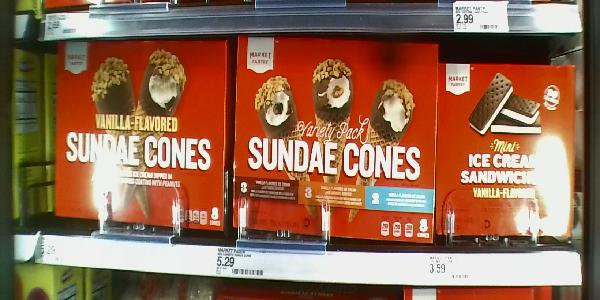icecream: (234, 28, 436, 262), (46, 28, 222, 243), (441, 63, 584, 248)
